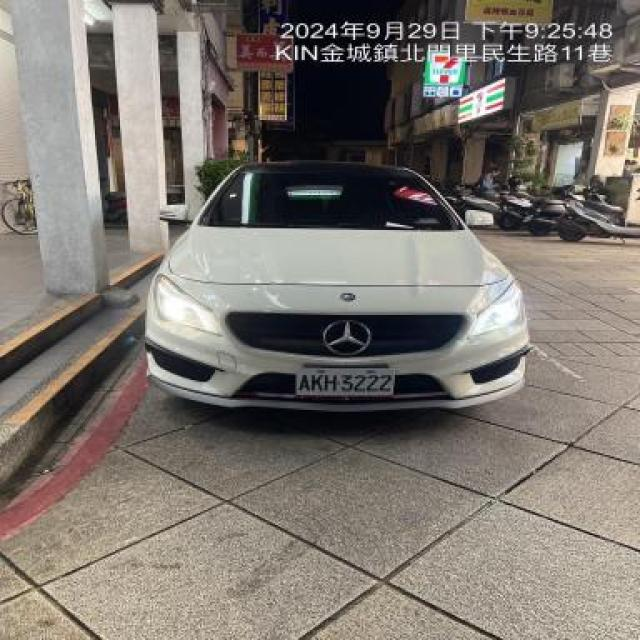Legalparking: (39, 123, 571, 437)
